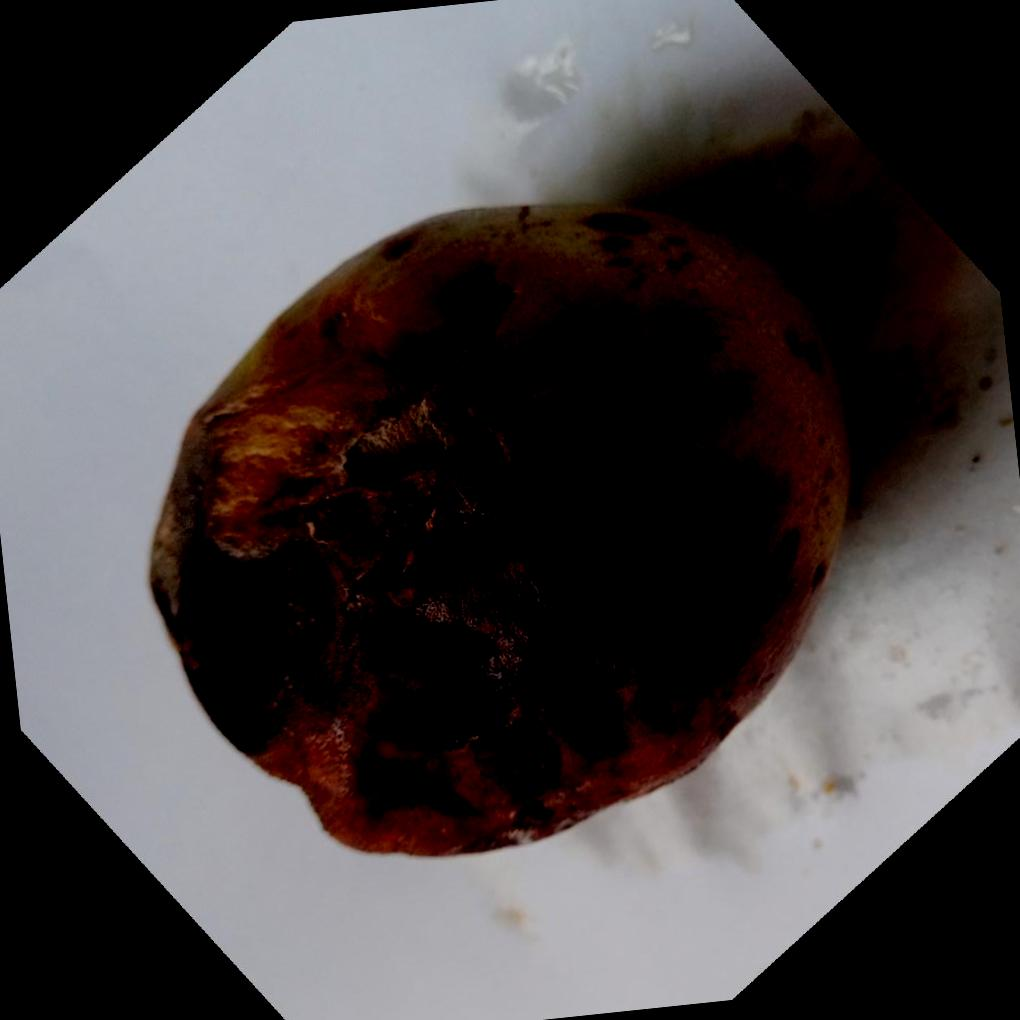FreshOrange: (149, 199, 858, 858)
